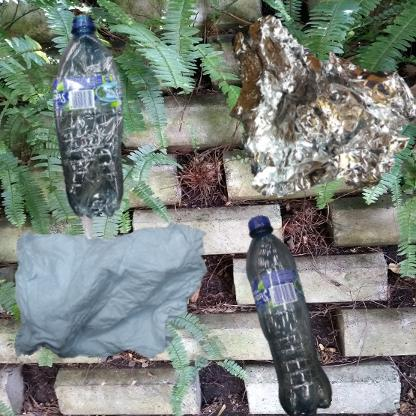aluminio: (213, 10, 416, 216)
botella: (10, 10, 207, 269), (213, 213, 375, 416)
papel: (10, 213, 213, 369)
